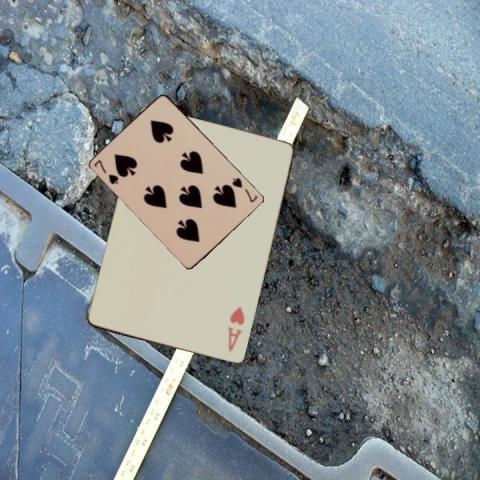7s: (230, 175, 260, 204), (91, 157, 120, 186)
Ah: (225, 304, 246, 353)
